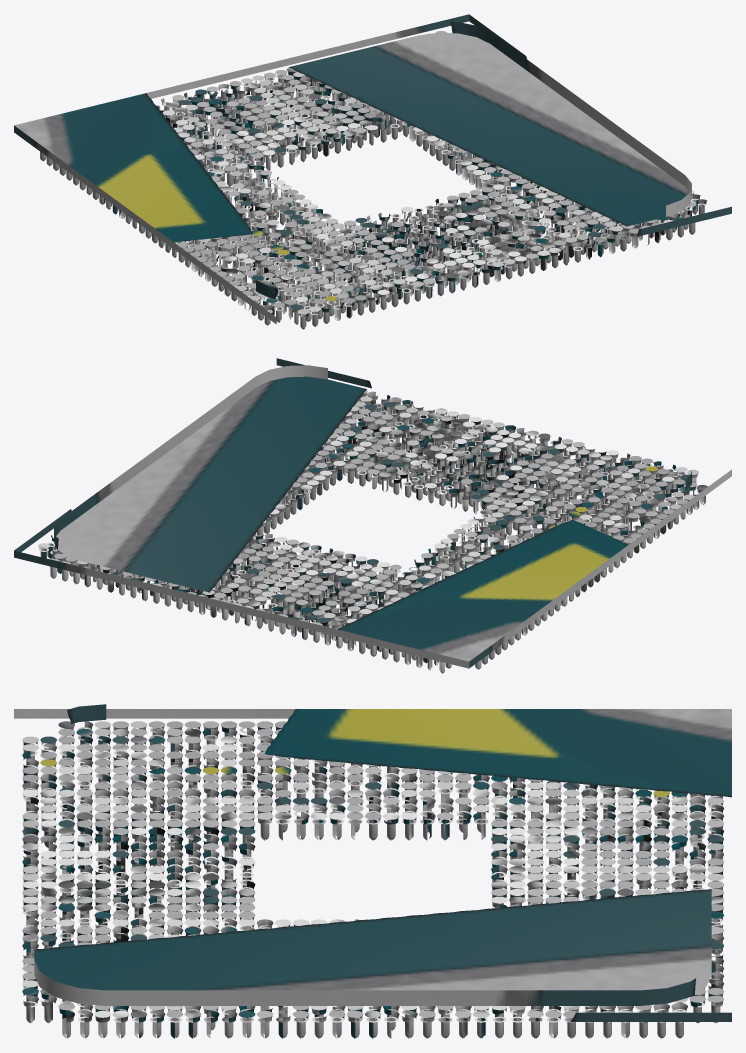
The model's file is CPU_AMD.fbx.
3 views of the same model, one above another, from view 1: azimuth 30°, elevation 25°; view 2: azimuth 150°, elevation 25°; view 3: azimuth 270°, elevation 25° (orthographic). The views are drawn at different scales.
Parts seen in each view (by area): view 1: CPU.001; view 2: CPU.001; view 3: CPU.001.
Boxes of the visible parts, x1,y1,x2,y2 form: CPU.001: (14,14,731,329); CPU.001: (14,358,731,673); CPU.001: (14,704,731,1038).
Bounding box in the file's own units: 234 × 18.05 × 234.
